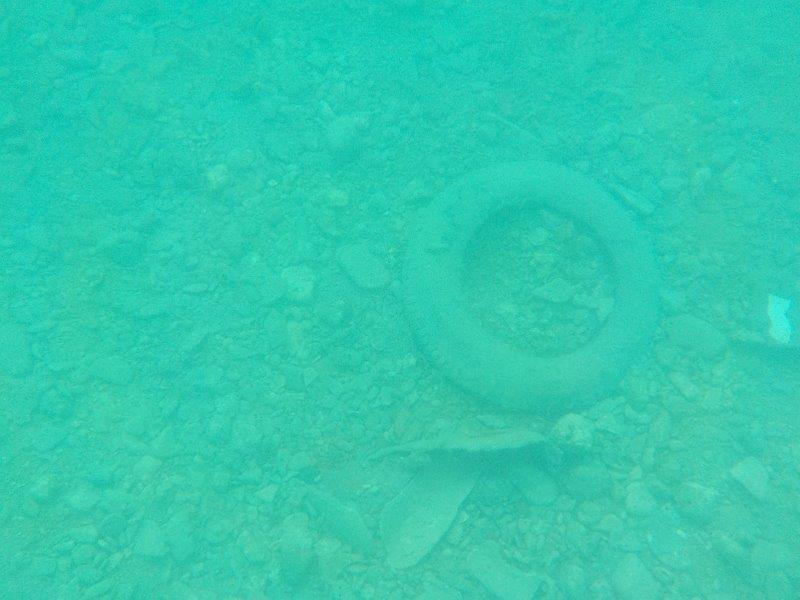tire: (393, 153, 660, 423)
